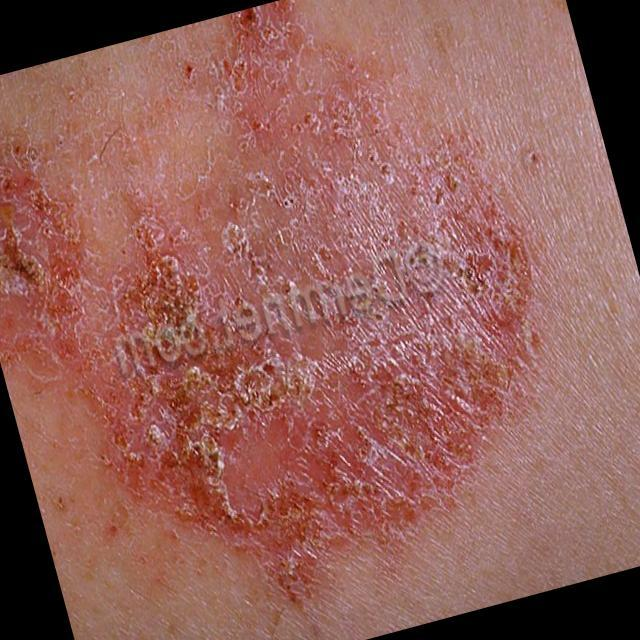Eczema: (0, 0, 520, 547)
